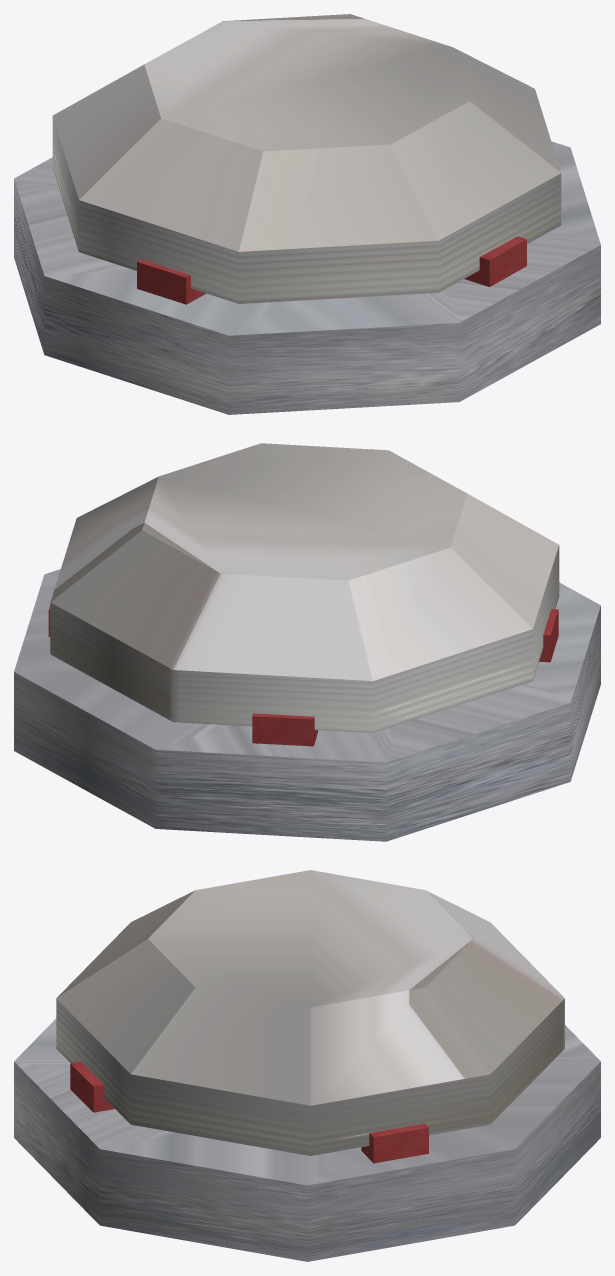
Rendered from staircase_lamp.FBX.
3 renders of one model, top to bottom at view 1: azimuth 30°, elevation 25°; view 2: azimuth 150°, elevation 25°; view 3: azimuth 270°, elevation 25°, orthographic. The views are drawn at different scales.
Parts seen in each view (by area): view 1: Cylinder002, Cylinder001, Box003, Box002; view 2: Cylinder002, Cylinder001, Box001, Box003; view 3: Cylinder002, Cylinder001, Box004, Box002.
Boxes of the visible parts, <box> form: Cylinder002: <box>52,14,561,303</box>; Cylinder001: <box>14,141,600,414</box>; Box003: <box>137,259,205,304</box>; Box002: <box>464,236,526,286</box>; Cylinder002: <box>50,443,559,733</box>; Cylinder001: <box>14,569,600,841</box>; Box001: <box>252,713,317,746</box>; Box003: <box>539,609,558,662</box>; Cylinder002: <box>56,870,564,1155</box>; Cylinder001: <box>14,1018,600,1261</box>; Box004: <box>361,1123,428,1163</box>; Box002: <box>70,1061,114,1112</box>.
Bounding box in the file's own units: 64.33 × 24.14 × 64.33.
4 materials, 4 textured.
